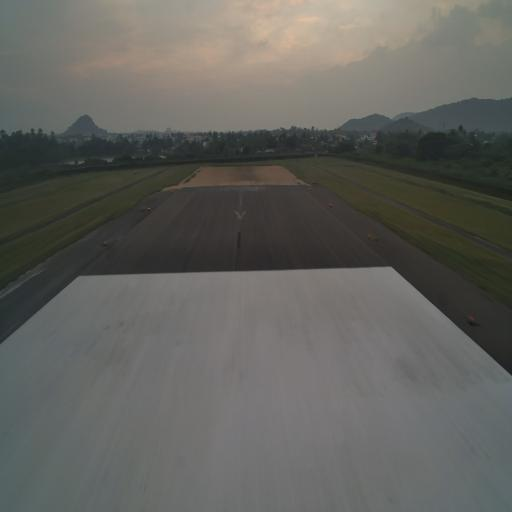on: (466, 310, 476, 327), (102, 239, 108, 248), (367, 231, 372, 240)
